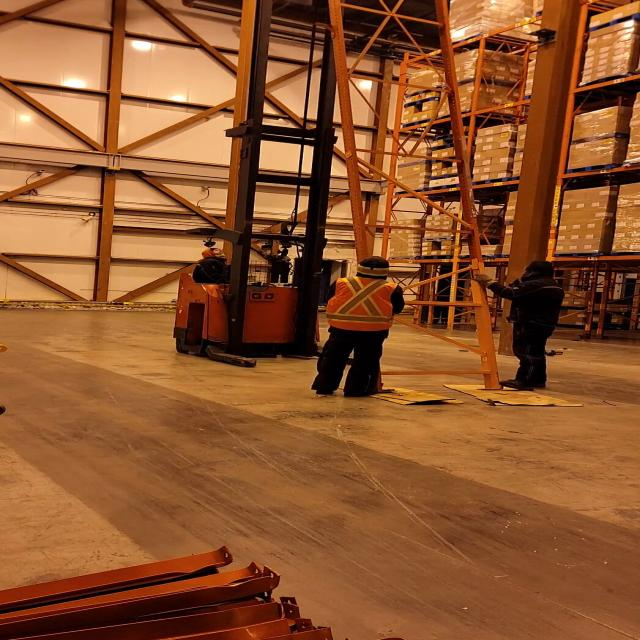forklift: (162, 122, 364, 370)
human: (306, 256, 407, 401), (470, 257, 570, 393), (185, 246, 257, 286)
objectofinterest: (316, 0, 519, 395), (440, 380, 587, 408), (336, 378, 461, 406)
